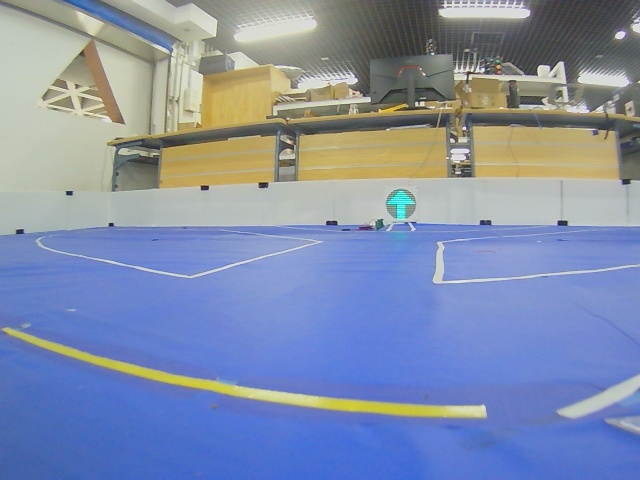straight_green: (386, 189, 416, 221)
